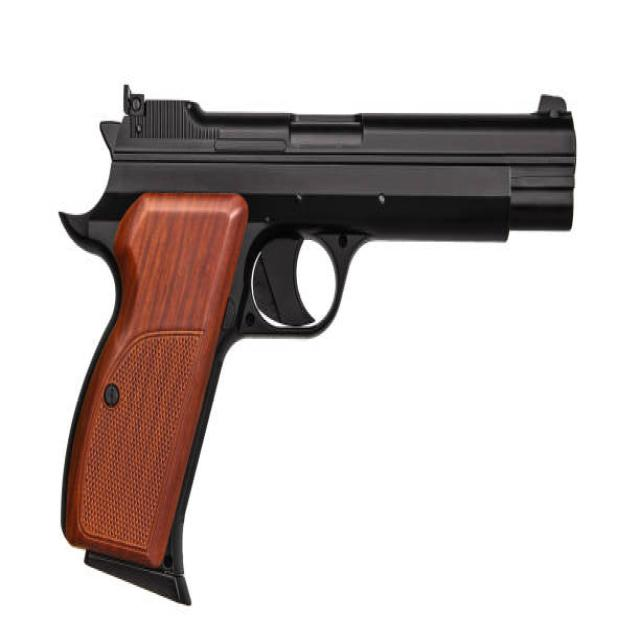pistol: (53, 79, 586, 612)
